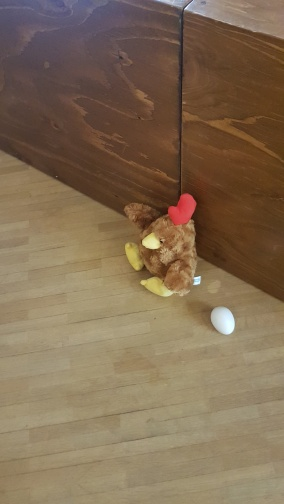chicken: (122, 192, 203, 299)
egg: (209, 303, 236, 335)
